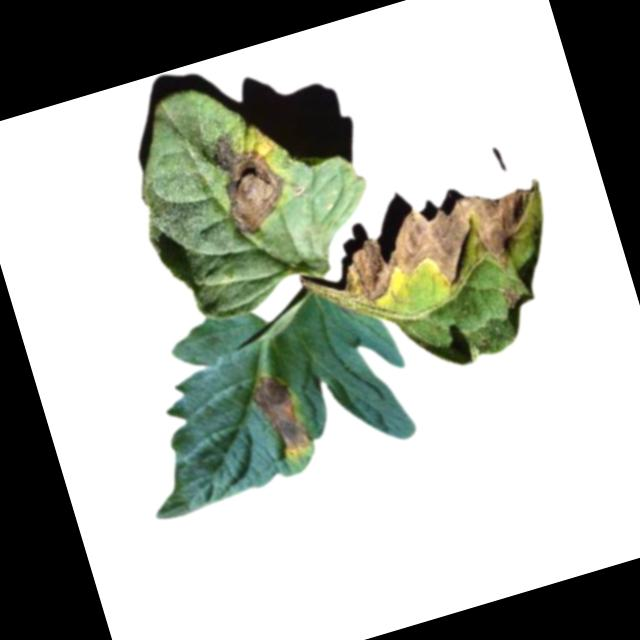Early_blight: (329, 175, 561, 321), (198, 120, 299, 243), (246, 366, 319, 466), (499, 283, 526, 312)
